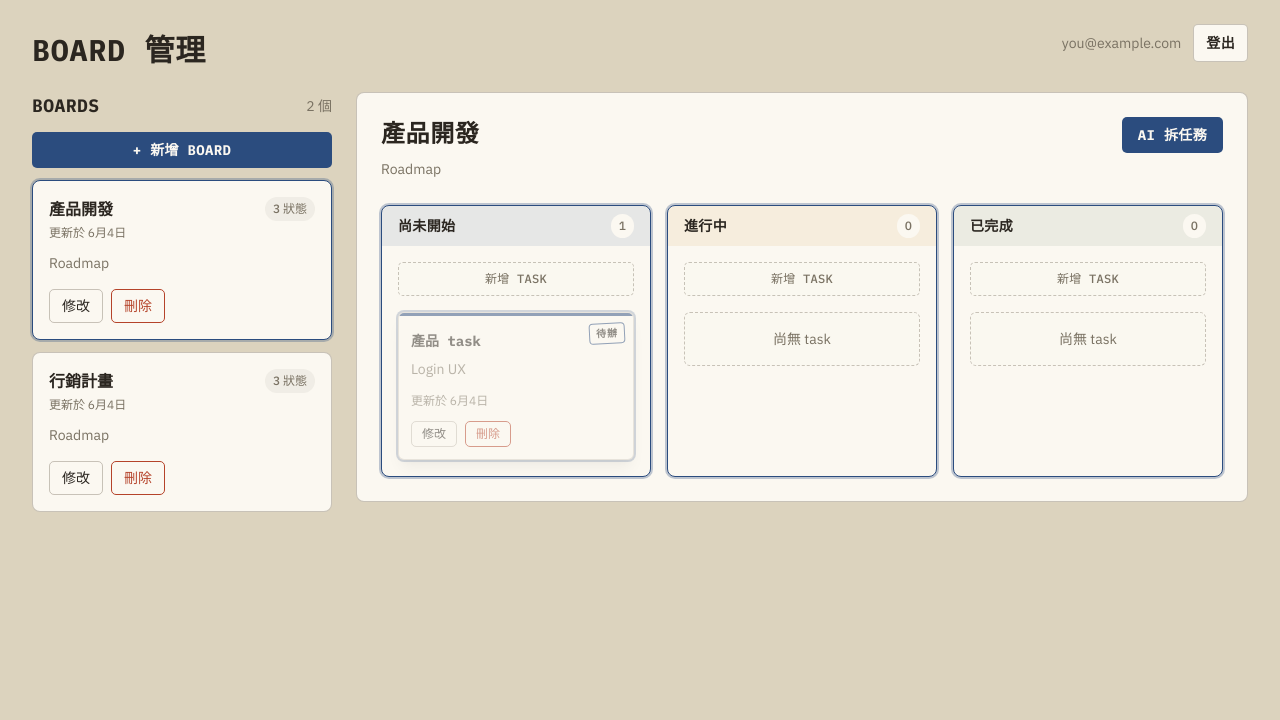
Test: BoardPage integration › shows only tasks for the selected board when switching boards
Expected: the 1st heading "產品開發" is shown, [381,117,479,149]
Expected: the element named "Task 產品 task" is shown, [398,312,634,460]
Click the button "行銷計畫". click: {"x": 81, "y": 381}
box: [49,369,315,445]
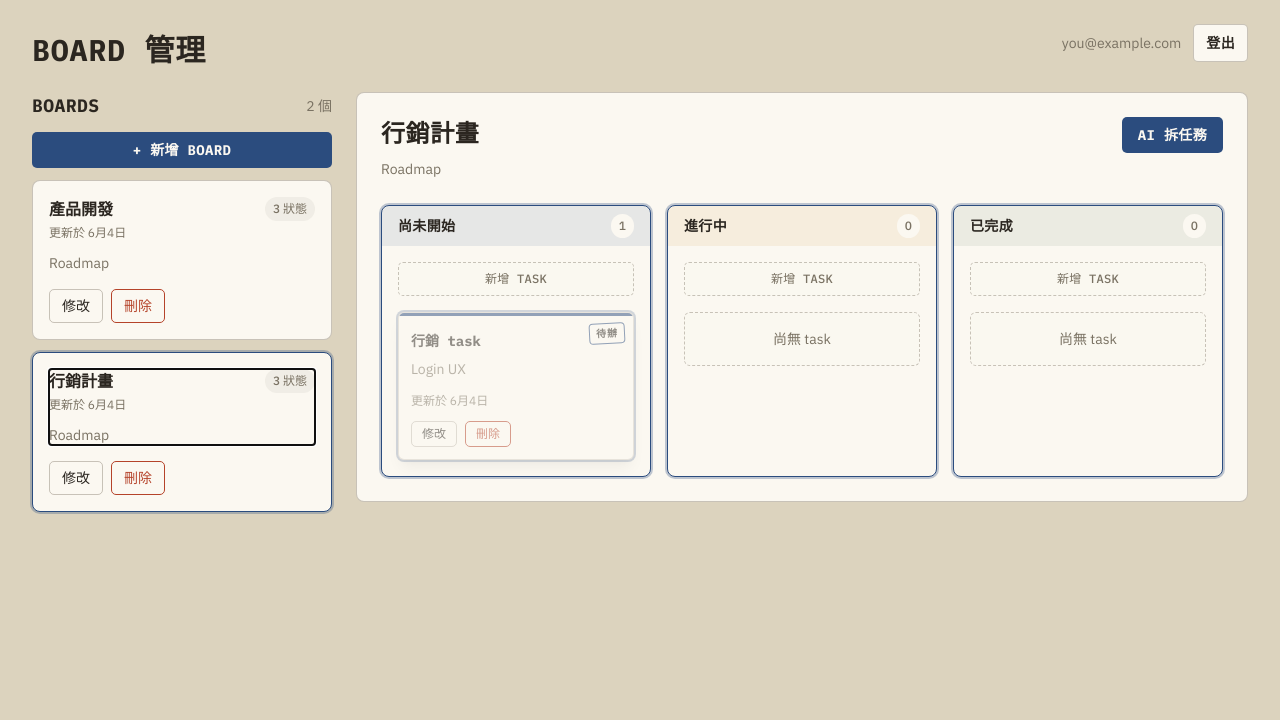
Expected: the 1st heading "行銷計畫" is shown, [381,117,479,149]
Expected: the element named "Task 行銷 task" is shown, [398,312,634,460]
